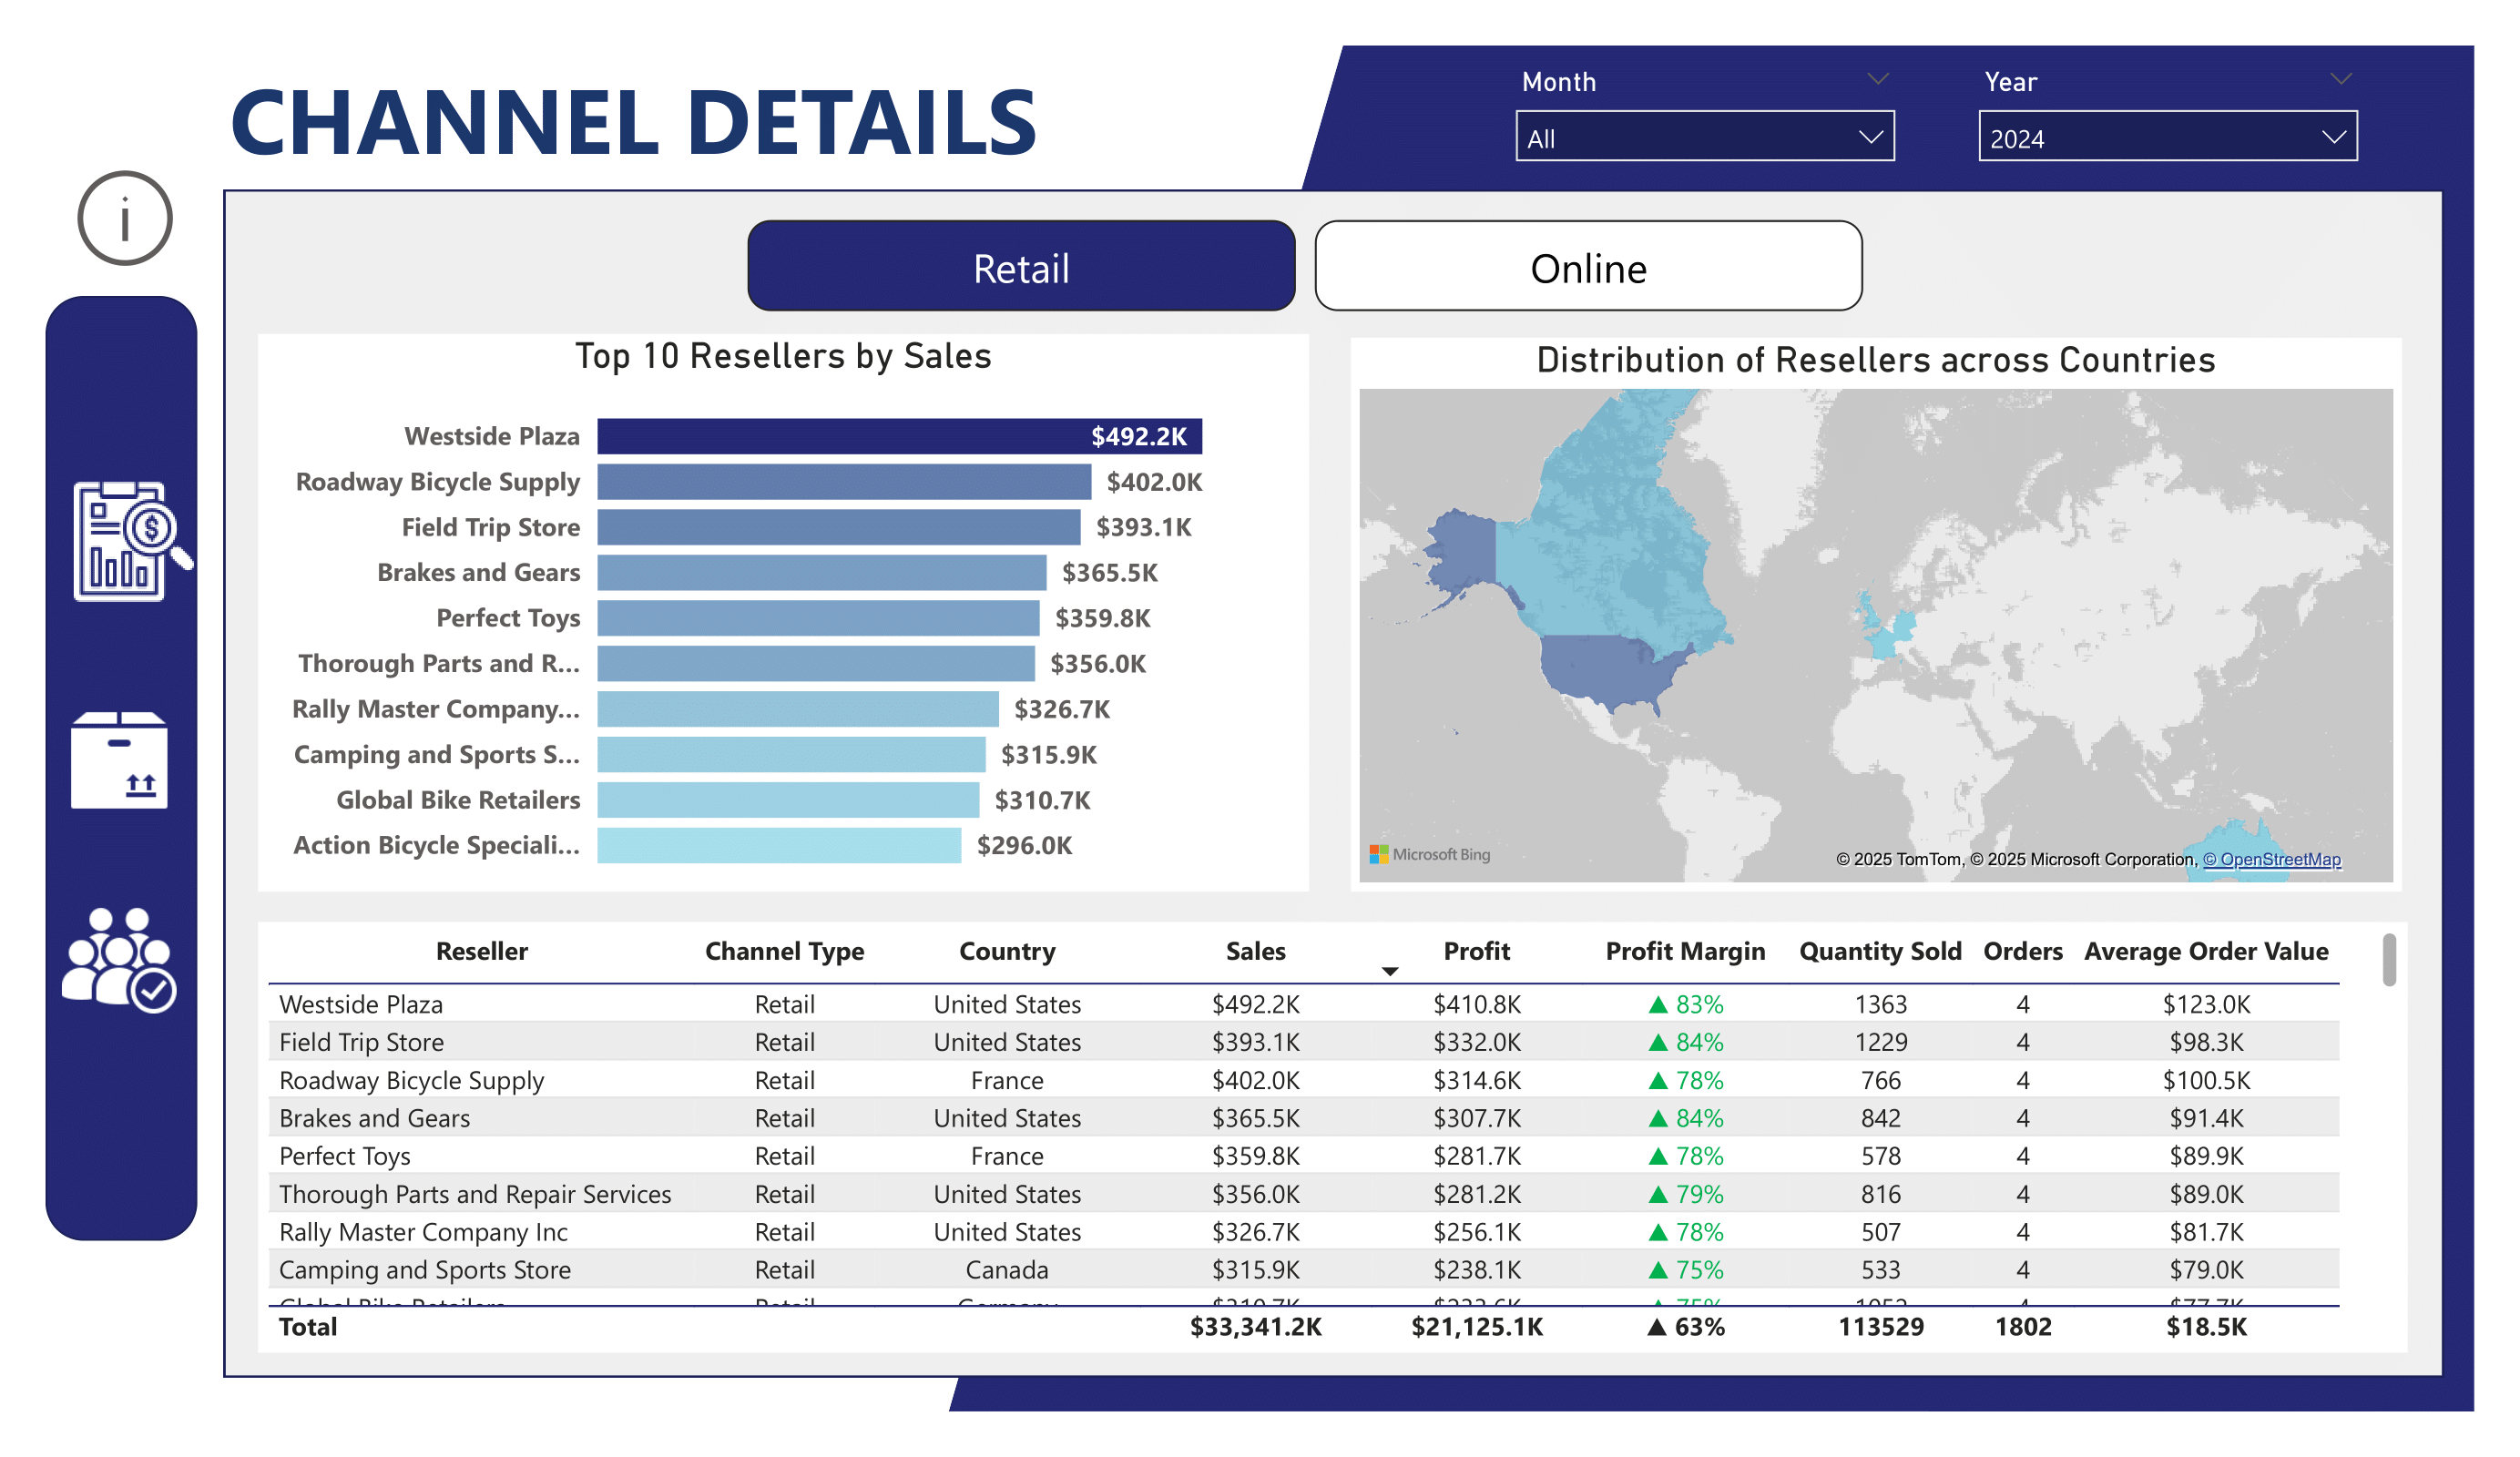

The dashboard page shown, as its layout file describes it:
{"tool":"powerbi","page":{"name":"Channel Details","canvas":[1280,720],"ordinal":2},"visuals":[{"type":"group","id":"g1","title":"Background","box":[0,0,1280,720],"z":0},{"type":"shape","box":[476,0,804,720],"z":0,"group":"g1"},{"type":"filledMap","title":"Distribution of Resellers across Countries","fields":{"Category":["Reseller_dim.Country"]},"box":[687.6,154.1,554,292],"z":0,"group":"g3"},{"type":"image","box":[6.2,224.1,80,75],"z":0,"group":"g2"},{"type":"shape","box":[992,0,288,720],"z":1000,"group":"g1"},{"type":"slicer","title":"Year","fields":{"Values":["Date_dim.CalendarYear"]},"box":[1014,6,210,64],"z":1000},{"type":"image","box":[4,338,70,78],"z":1000,"group":"g2"},{"type":"tableEx","title":"Reseller Table","fields":{"Values":["Reseller_dim.Reseller_Name","Channel_dim.Channel_Type","Reseller_dim.Country","_Measures.Net Sales","_Measures.Net Profit","_Measures.Profit Margin Label","_Measures.Total Quantity Sold","_Measures.Total Orders","_Measures.Average Order Value"]},"box":[111.7,462.3,1132.7,226.9],"z":1000,"group":"g3"},{"type":"textbox","box":[92,0,640,84],"z":2000},{"type":"shape","box":[0,132,80,498],"z":2000,"group":"g1"},{"type":"barChart","title":"Top 10 Resellers by Sales","fields":{"Y":["_Measures.Net Sales"],"Category":["Reseller_dim.Reseller_Name"]},"box":[111.6,152.1,554,294.5],"z":2000,"group":"g3"},{"type":"image","box":[4,428,70,104],"z":2000,"group":"g2"},{"type":"slicer","title":"Year","fields":{"Values":["Date_dim.Month_Abbrv"]},"box":[770,6,210,64],"z":3000},{"type":"actionButton","box":[10,56,64,70],"z":3000,"group":"g2"},{"type":"shape","box":[94,76,1170,626],"z":3000,"group":"g1"},{"type":"bookmarkNavigator","box":[370,91.7,588.3,48.3],"z":3250},{"type":"group","id":"g2","title":"Buttons","box":[4,56,82.2,476],"z":3500},{"type":"group","id":"g3","title":"Reseller","box":[111.6,152.1,1132.8,537],"z":4000}]}

Visuals, with their boxes on the page's 1280x720 design canvas (x1, y1, x2, y2). These are canvas units, not pixel positions in the 2520x1457 screenshot, which may show the page scaled, cropped or inside an application window:
"Background" group: l=0, t=0, r=1280, b=720
shape: l=476, t=0, r=1280, b=720
"Distribution of Resellers across Countries" filledMap: l=688, t=154, r=1242, b=446
image: l=6, t=224, r=86, b=299
shape: l=992, t=0, r=1280, b=720
"Year" slicer: l=1014, t=6, r=1224, b=70
image: l=4, t=338, r=74, b=416
"Reseller Table" tableEx: l=112, t=462, r=1244, b=689
textbox: l=92, t=0, r=732, b=84
shape: l=0, t=132, r=80, b=630
"Top 10 Resellers by Sales" barChart: l=112, t=152, r=666, b=447
image: l=4, t=428, r=74, b=532
"Year" slicer: l=770, t=6, r=980, b=70
actionButton: l=10, t=56, r=74, b=126
shape: l=94, t=76, r=1264, b=702
bookmarkNavigator: l=370, t=92, r=958, b=140
"Buttons" group: l=4, t=56, r=86, b=532
"Reseller" group: l=112, t=152, r=1244, b=689
